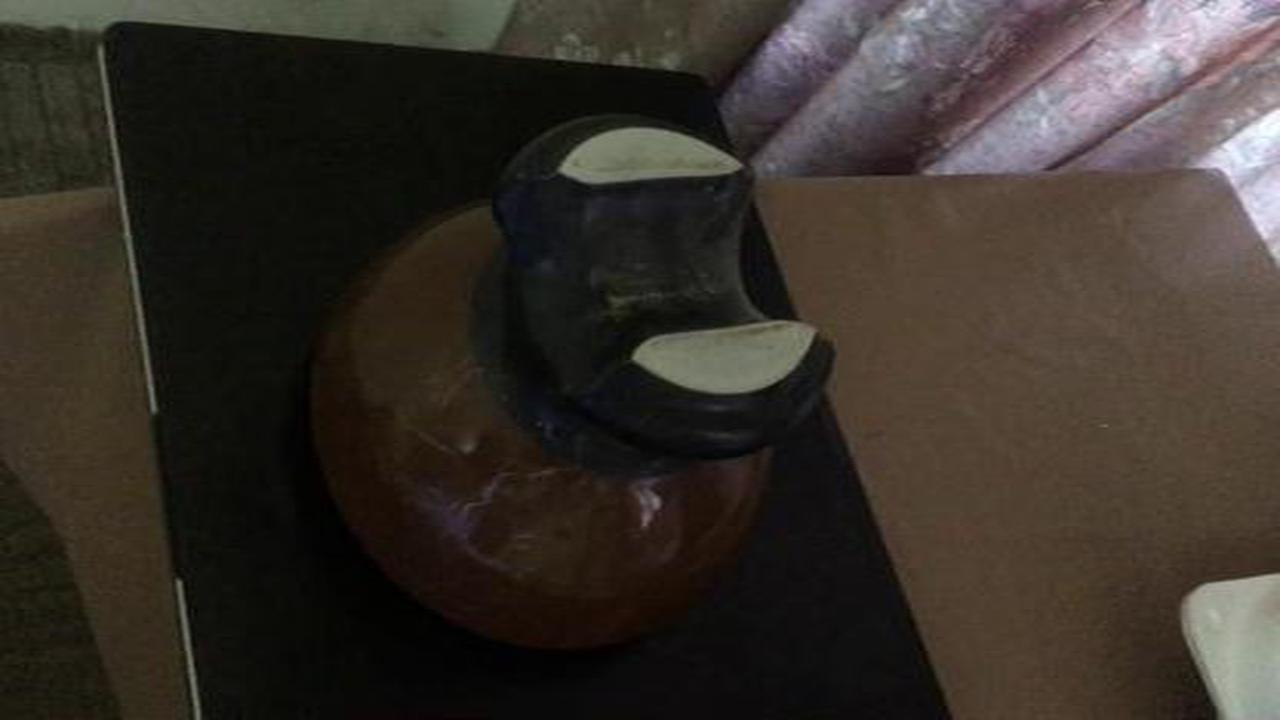insulator_pin: (287, 87, 862, 669)
